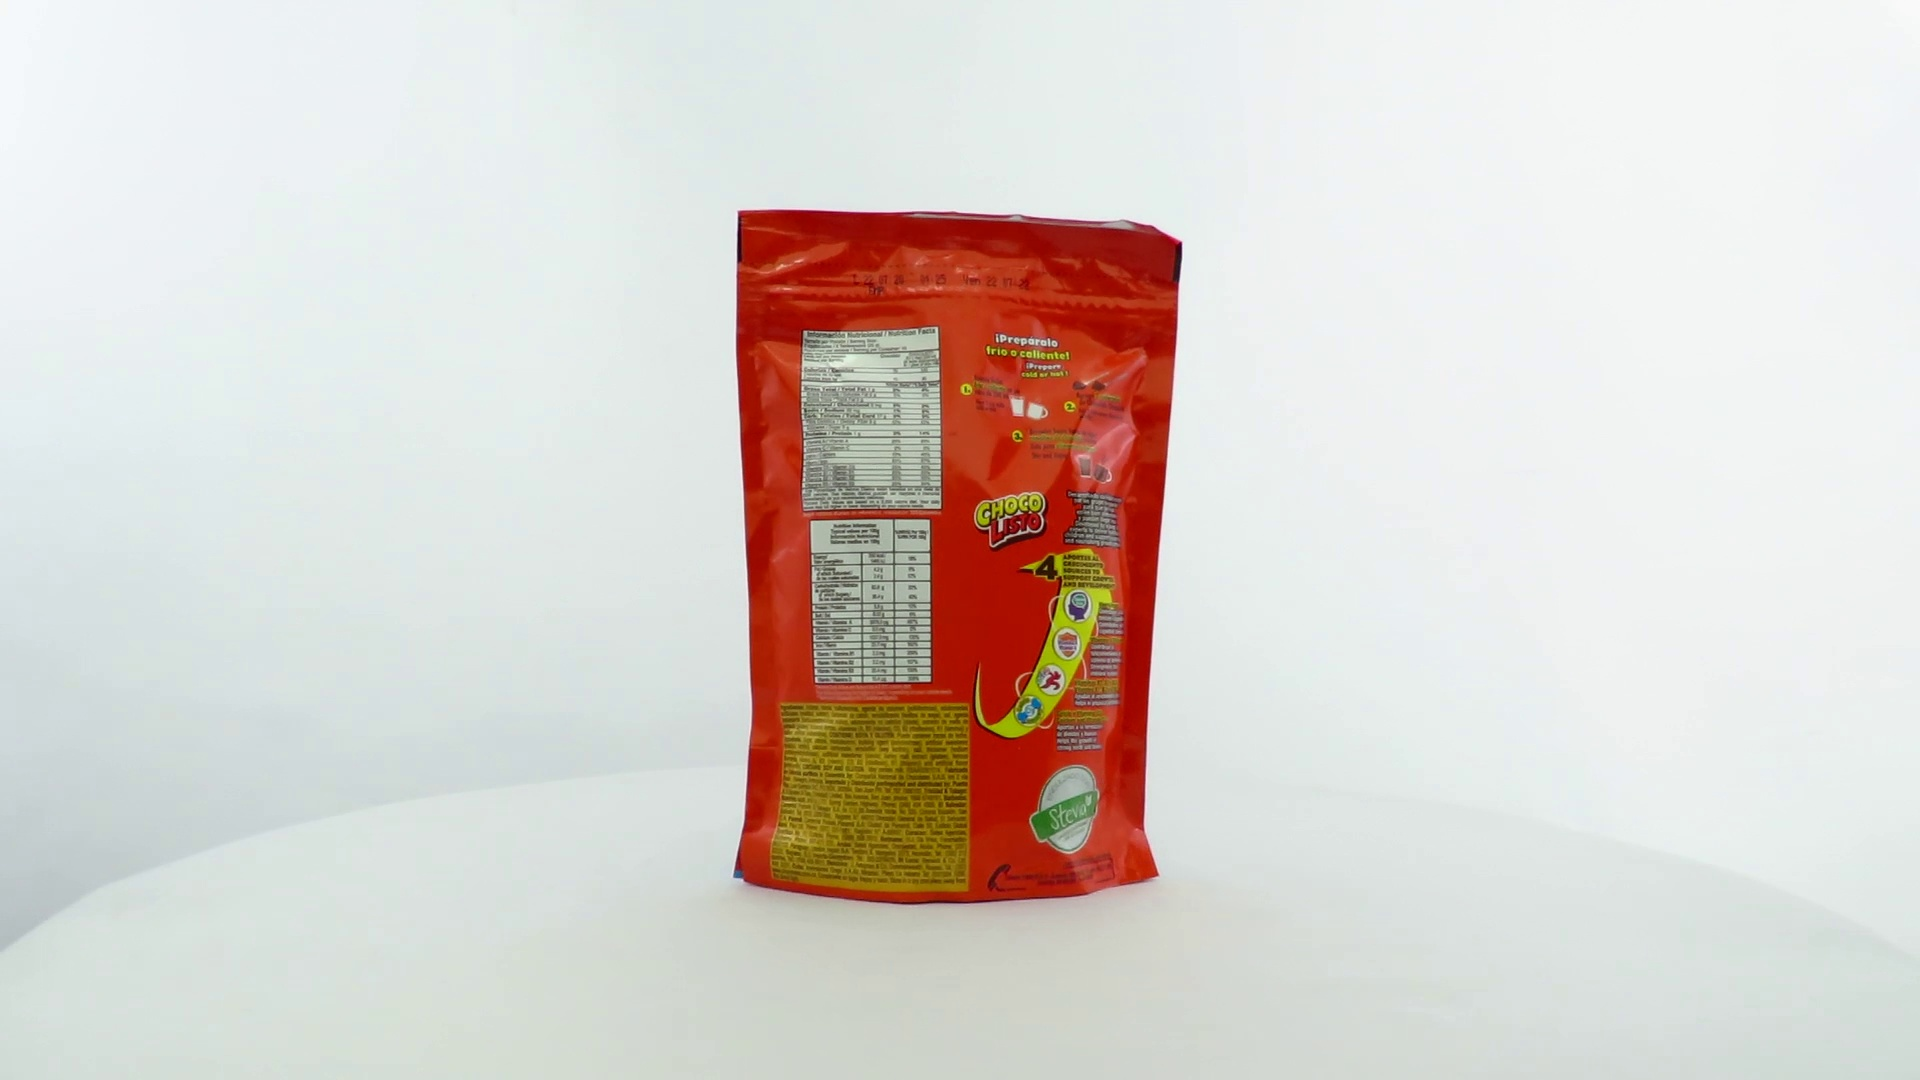COL0170104DYP20000: (728, 204, 1188, 911)
